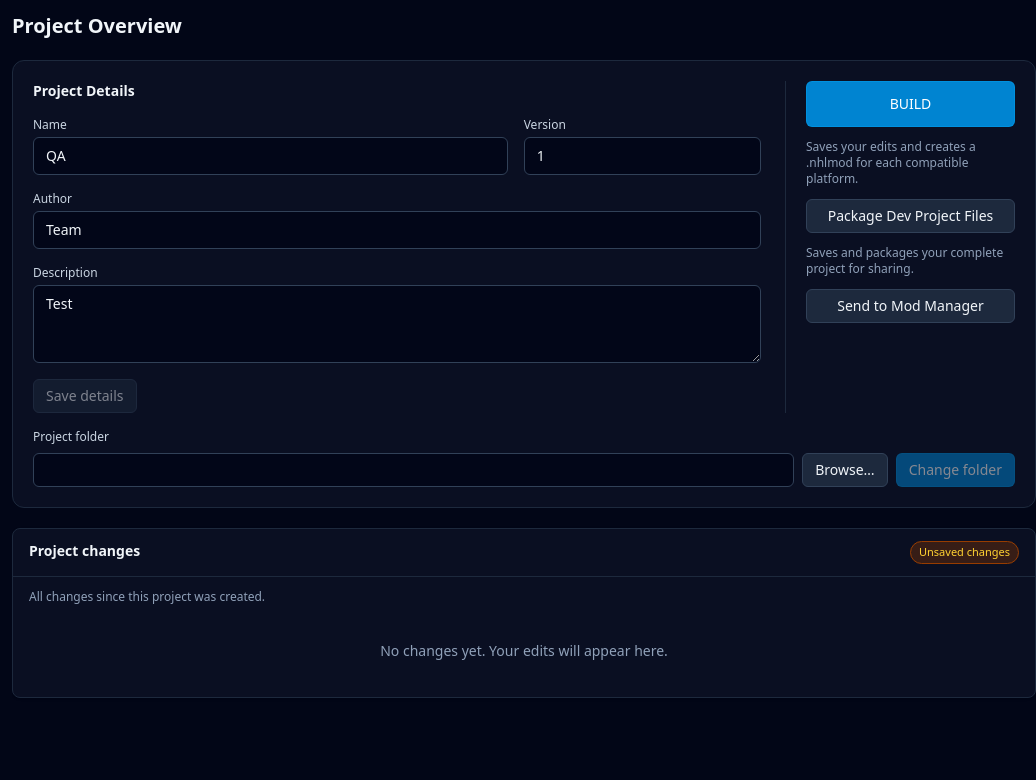
Test: Package Dev Project Files saves details and edits before packaging
Check: the heading "Project Details" is shown, box [33,81,135,100]
Replace the text in the field labelled "Version" with "2" at (642, 156), box [524,137,761,175]
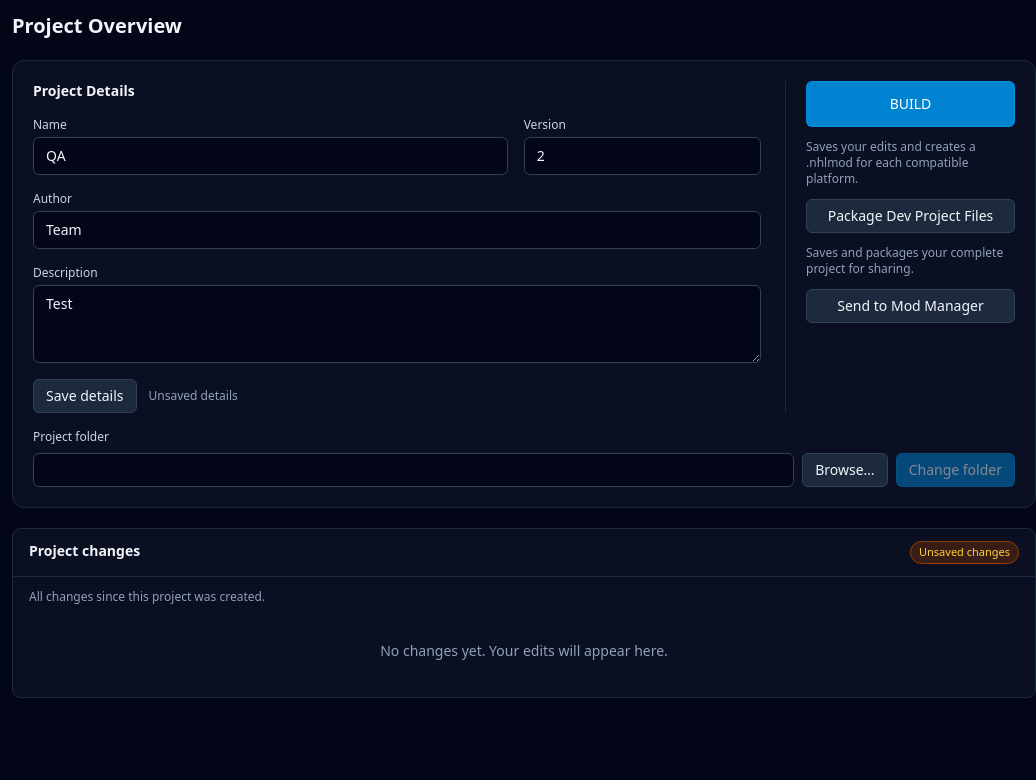
Click the button "Package Dev Project Files".
click(910, 216)  # box [806,199,1015,233]
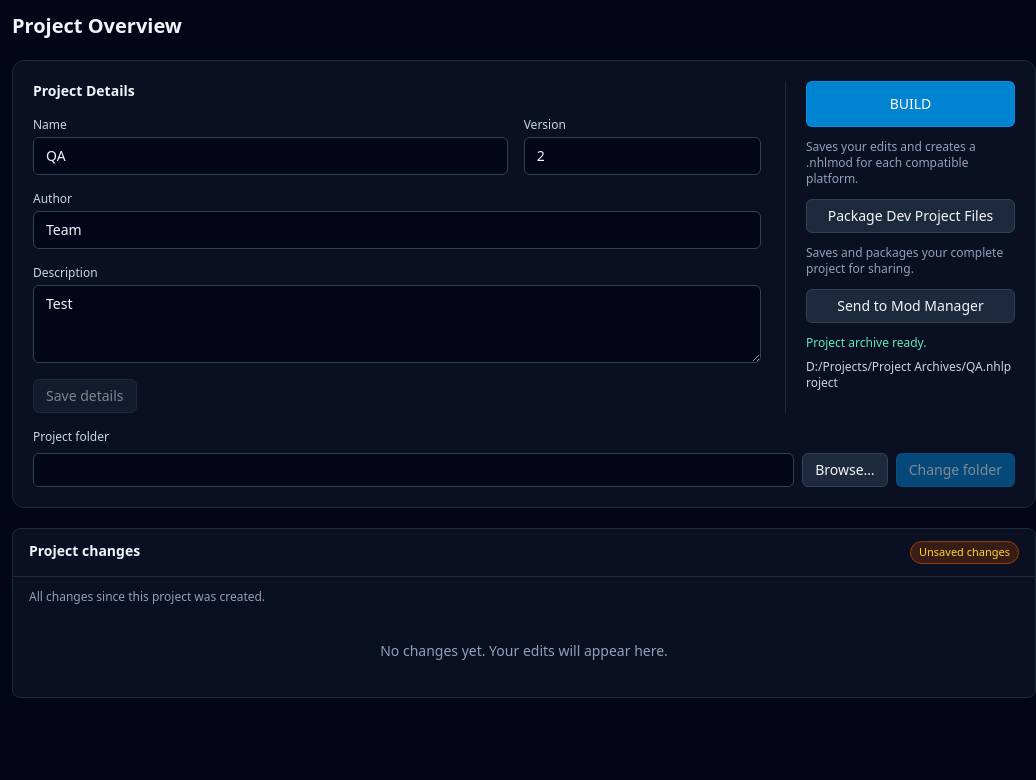
Check: the text "Project archive ready." is shown, box [806,334,926,351]
